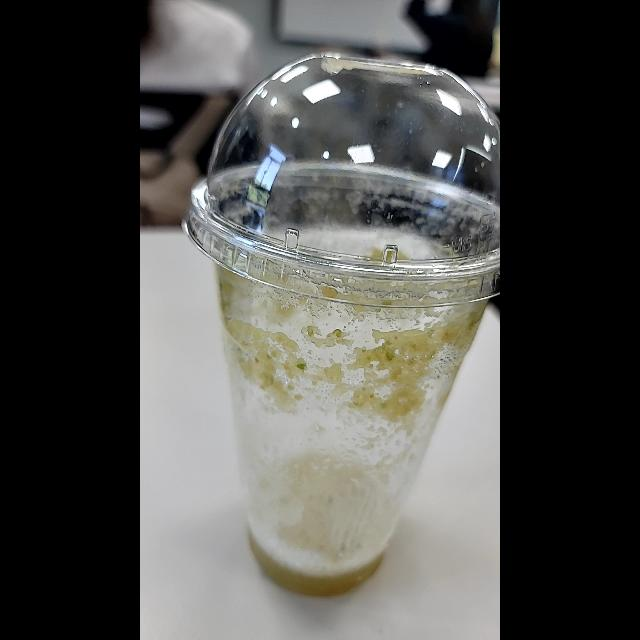plastic_cup: (182, 51, 500, 602), (185, 51, 500, 309)
